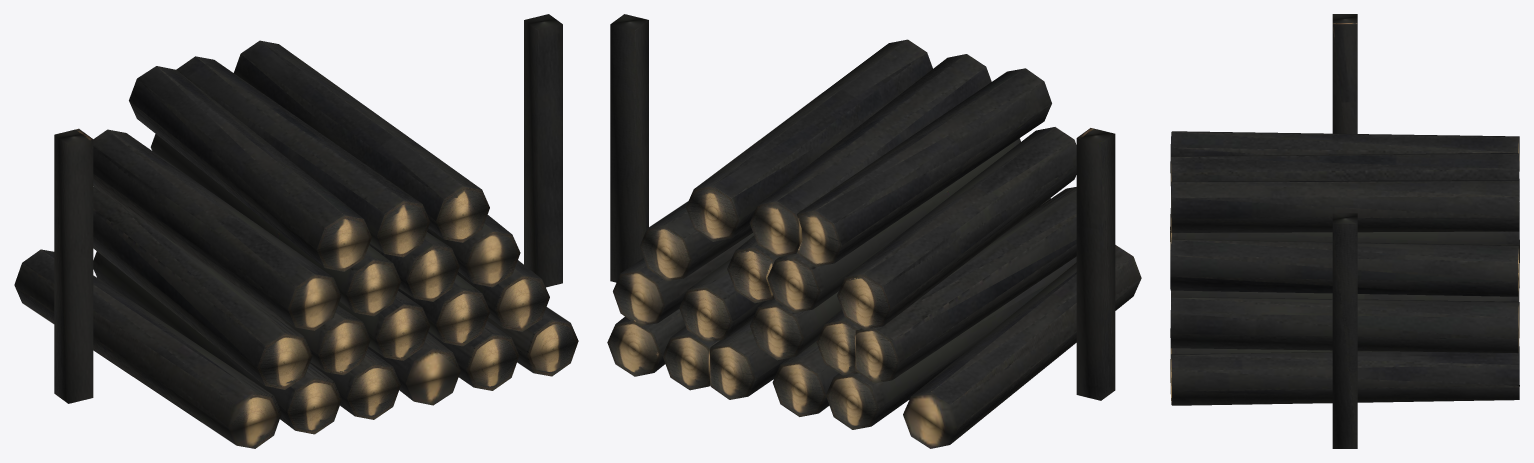
The model's file is wood_pile.glb.
3 views of the same model, side by side, from view 1: azimuth 30°, elevation 25°; view 2: azimuth 150°, elevation 25°; view 3: azimuth 270°, elevation 25° (orthographic). The views are drawn at different scales.
Visible parts, largest first — view 1: wood_pile; view 2: wood_pile; view 3: wood_pile.
Part boxes in pixels (bbox=[...]): wood_pile: bbox=[14, 14, 578, 448]; wood_pile: bbox=[607, 14, 1141, 448]; wood_pile: bbox=[1170, 14, 1519, 448].
Bounding box in the file's own units: 2 × 1 × 1.41.
Materials: 1 (1 with a texture image).
